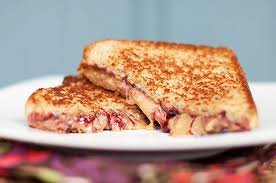soup: (23, 39, 259, 139)
